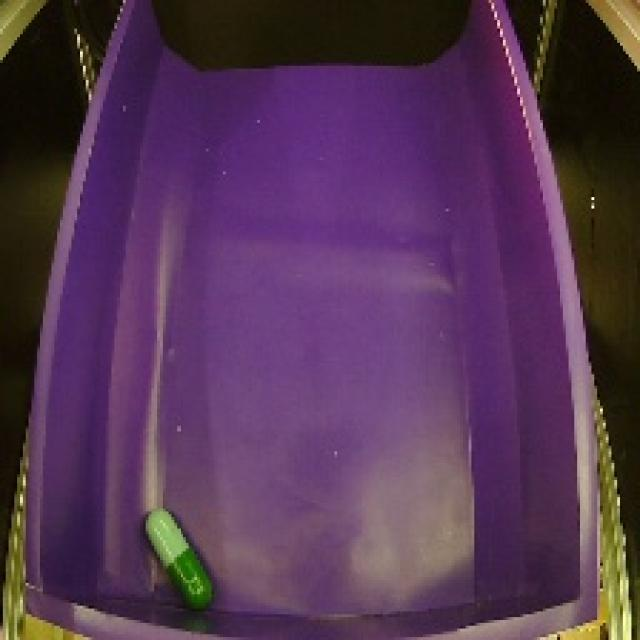small: (137, 492, 220, 618)
